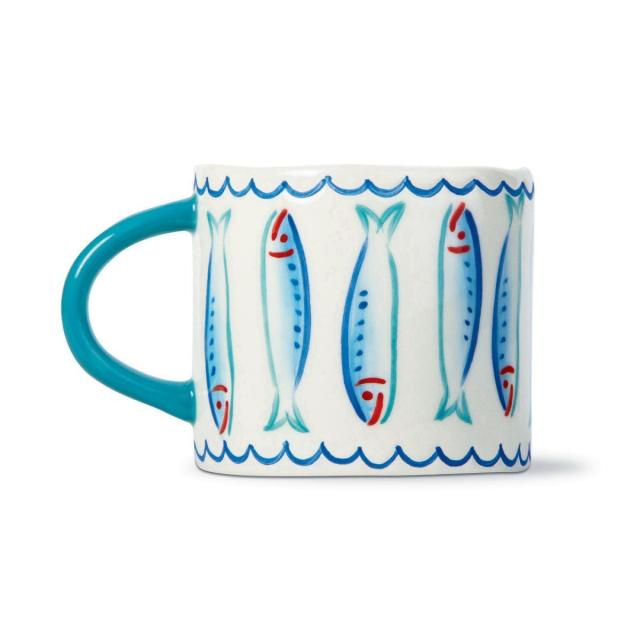glass cup: (62, 164, 535, 476)
